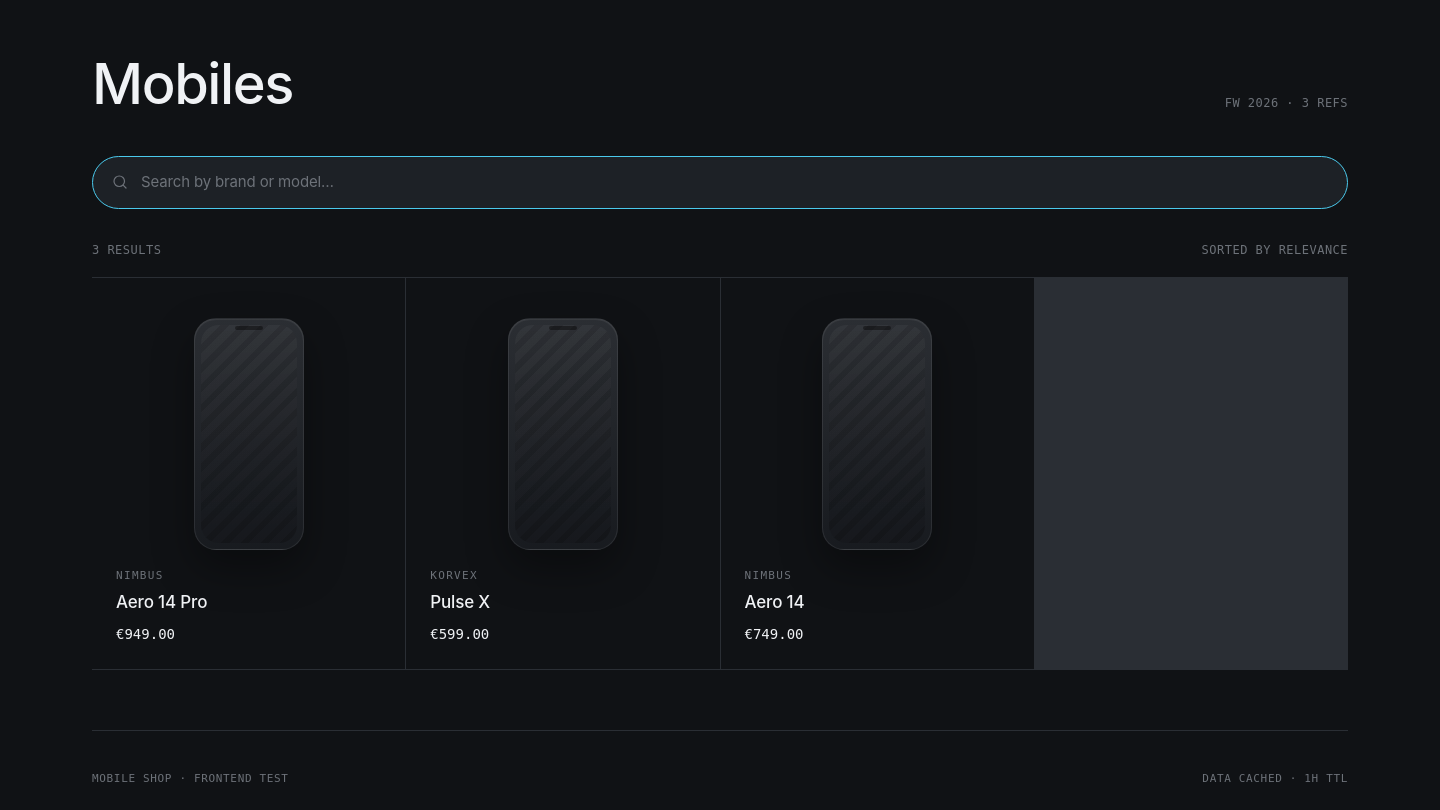
Test case: PLP › filters products by model in real time
Type "Pulse" into the search field at x=735, y=182, box [141, 171, 1329, 194]
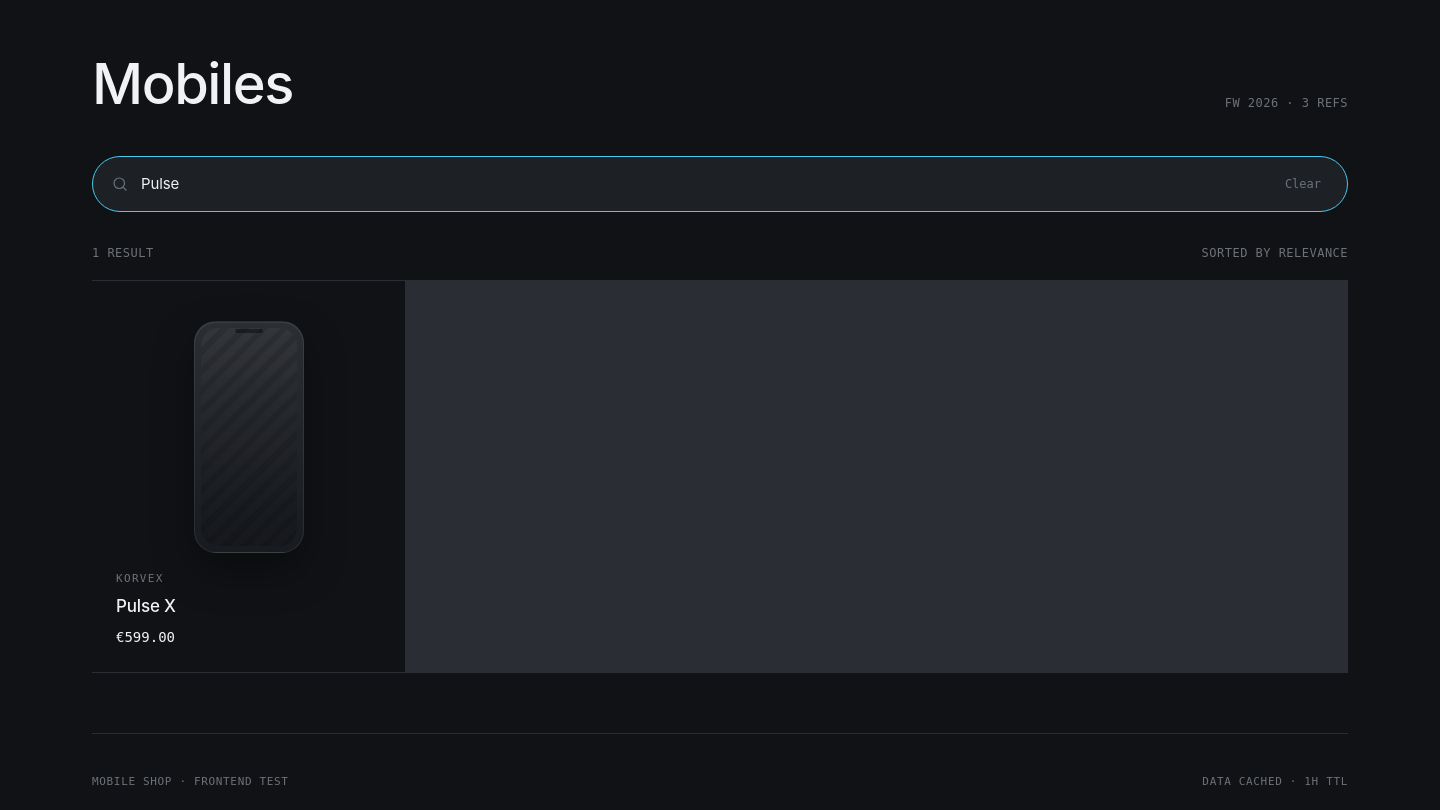
Expected: the text "Pulse X" is shown, [116, 596, 176, 616]
Expected: the link "Aero 14 Pro" is gone
